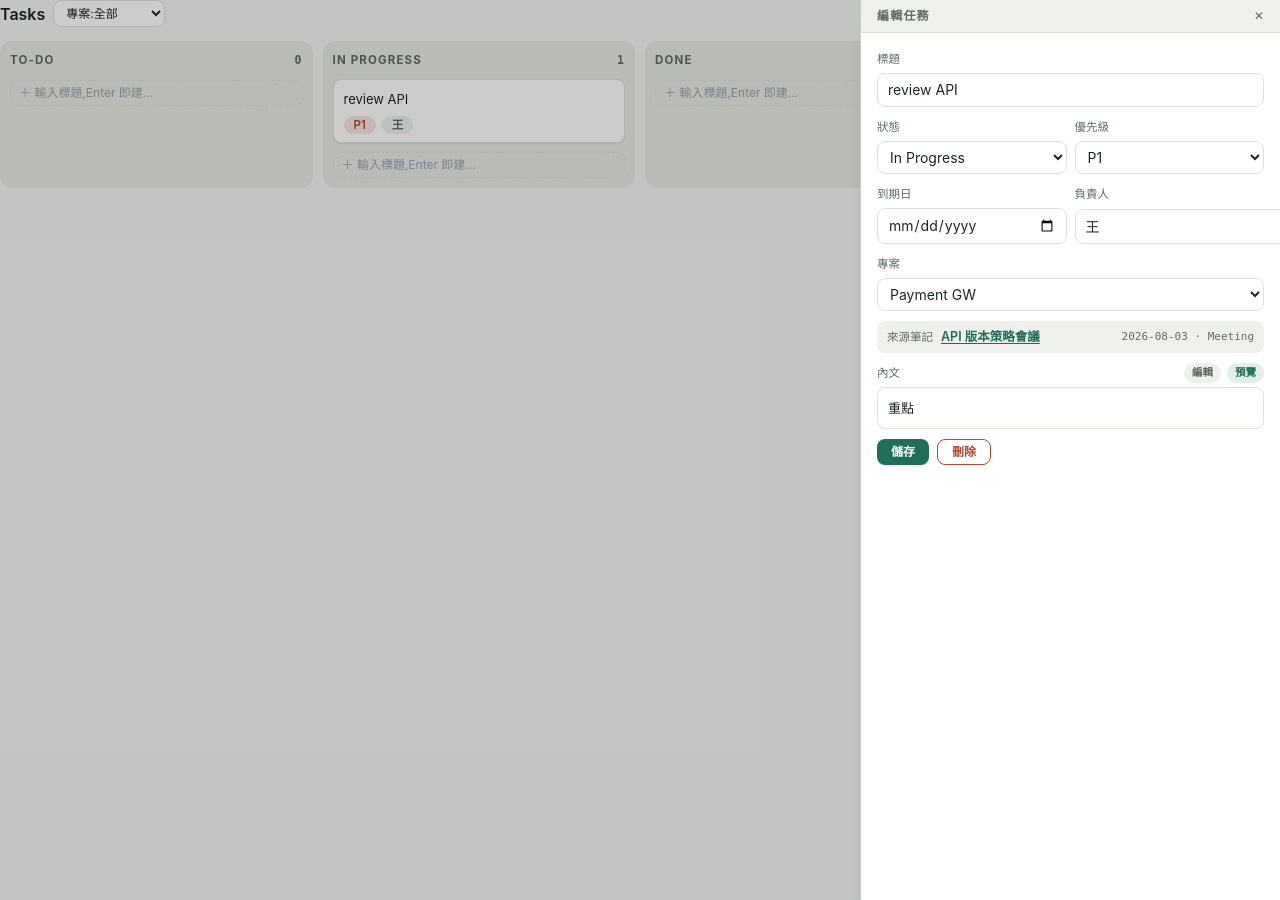
Tasks › reopens a saved task with the saved value, not the pre-save cache
The image size is (1280, 900).
Replace the text in the field labelled "標題" with "review API v2": (1070, 90) [877,73,1264,107]
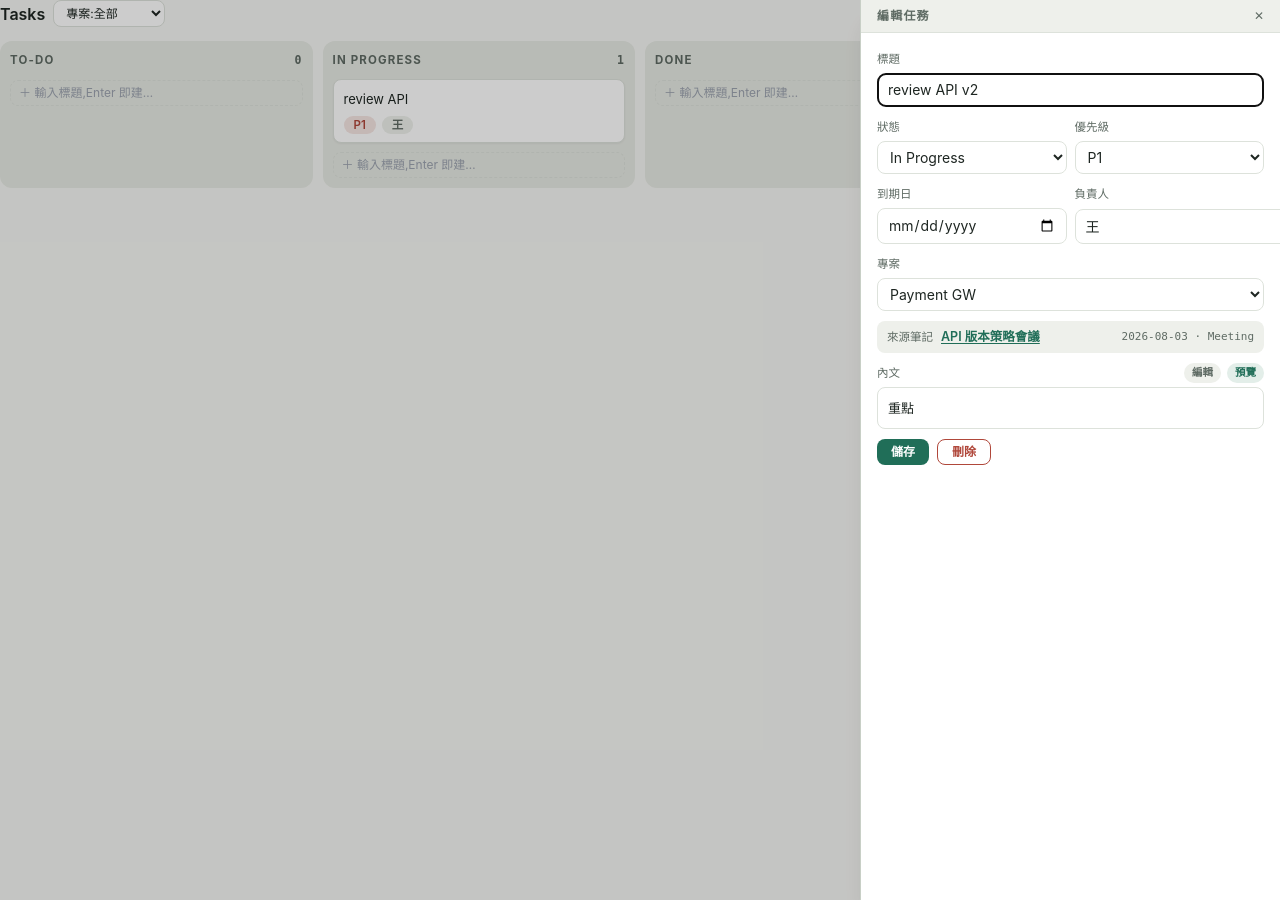
Click the button "儲存": (903, 452) [877,439,929,465]
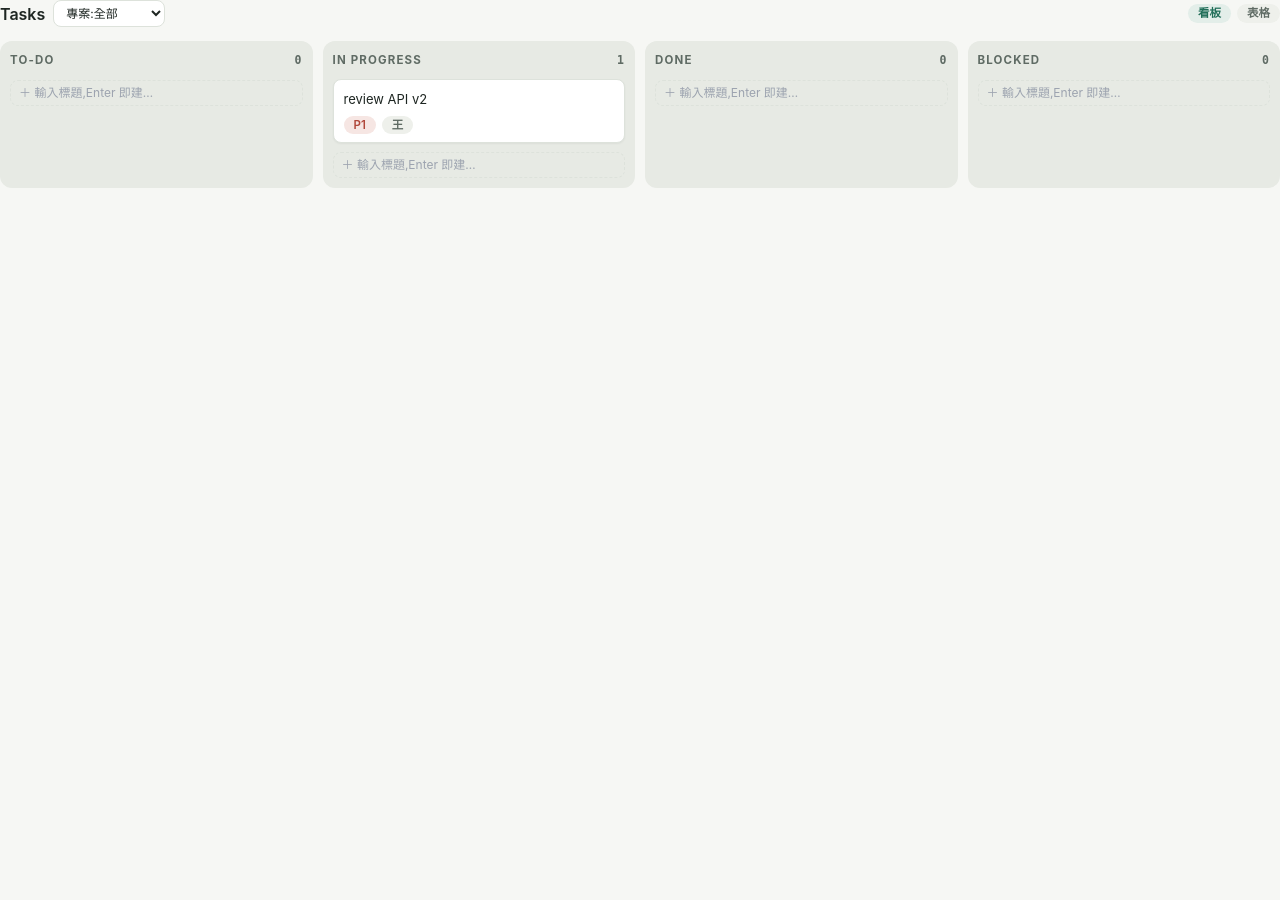
Result: the heading "編輯任務" is gone
Click the button "review API v2 P1 王": (385, 99) [332,78,625,143]
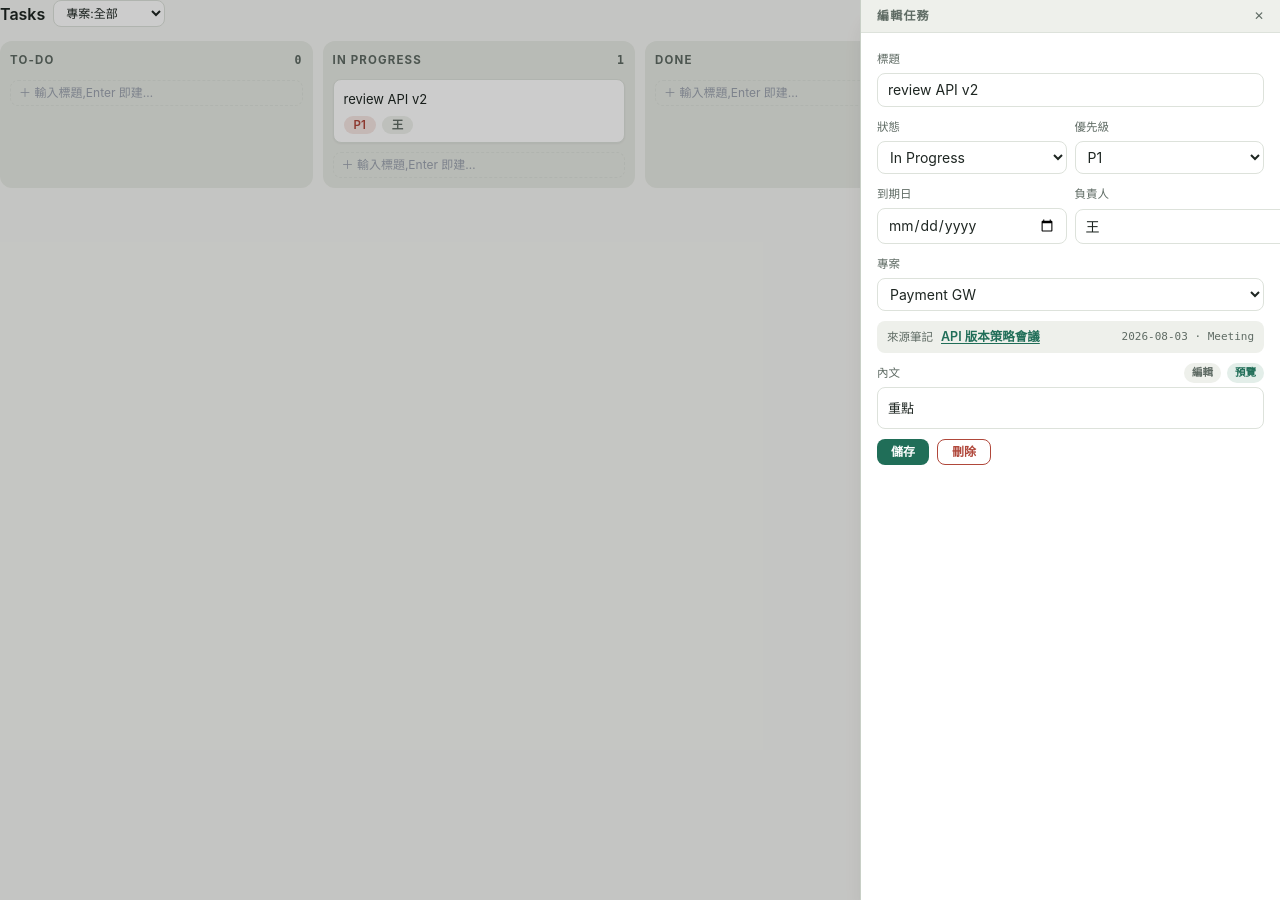
Result: the field showing "review API v2" is shown at [877,73,1264,107]
